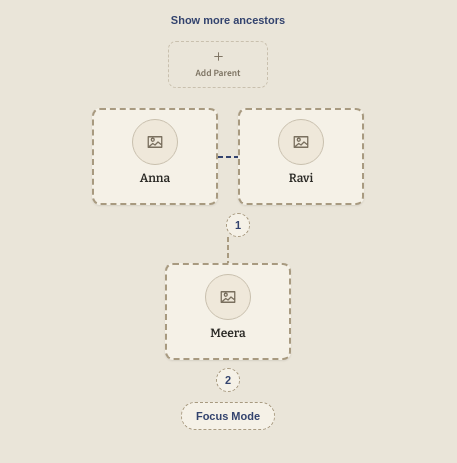
shows a sibling flap for the spouse side of a couple, not just the anchor
Step 1. Click the button "1" → (238, 225), box [226,213,250,237]
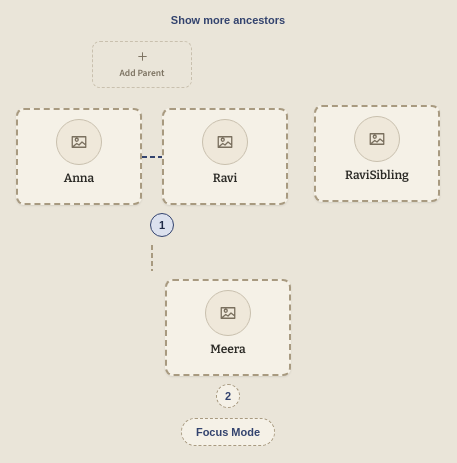
expect the text "RaviSibling" is shown: met, box [345,168,409,183]
